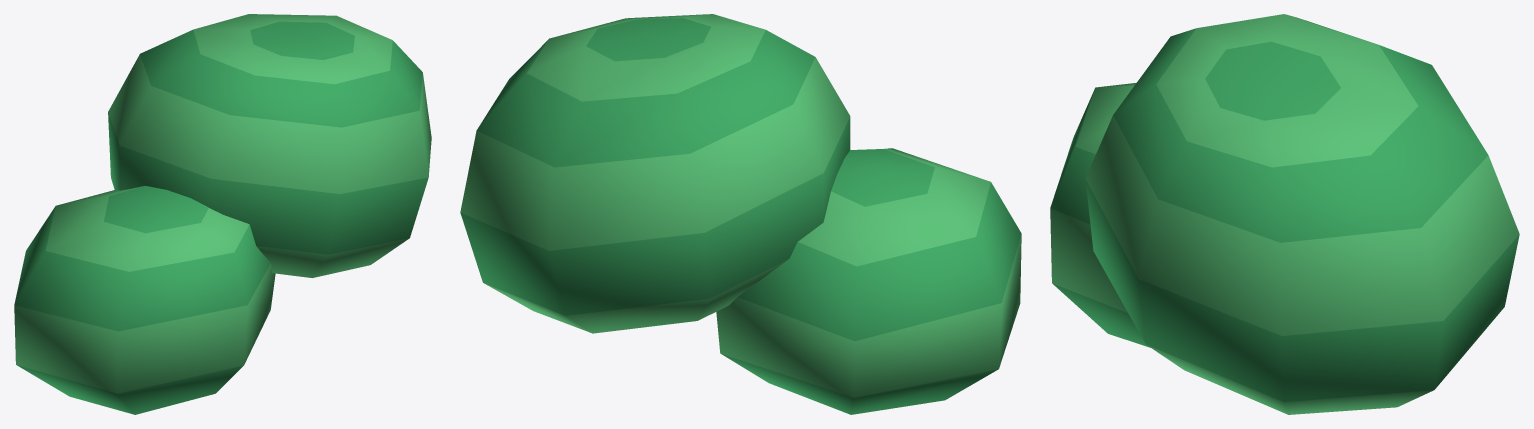
Rendered from Tree_Top_C_03_LOD2.gltf.
3 renders of one model, left to right at view 1: azimuth 30°, elevation 25°; view 2: azimuth 150°, elevation 25°; view 3: azimuth 270°, elevation 25°, orthographic. The views are drawn at different scales.
Visible parts, largest first — view 1: Tree_Top_C_03_LOD2_Cylinder.671; view 2: Tree_Top_C_03_LOD2_Cylinder.671; view 3: Tree_Top_C_03_LOD2_Cylinder.671.
Part boxes in pixels (x1,y1,x2,y2): Tree_Top_C_03_LOD2_Cylinder.671: (14, 14, 431, 414); Tree_Top_C_03_LOD2_Cylinder.671: (460, 14, 1021, 414); Tree_Top_C_03_LOD2_Cylinder.671: (1050, 14, 1519, 414).
Size of the model in its own units: 9.22 by 5.88 by 6.69.
Materials: 1 (1 with a texture image).
